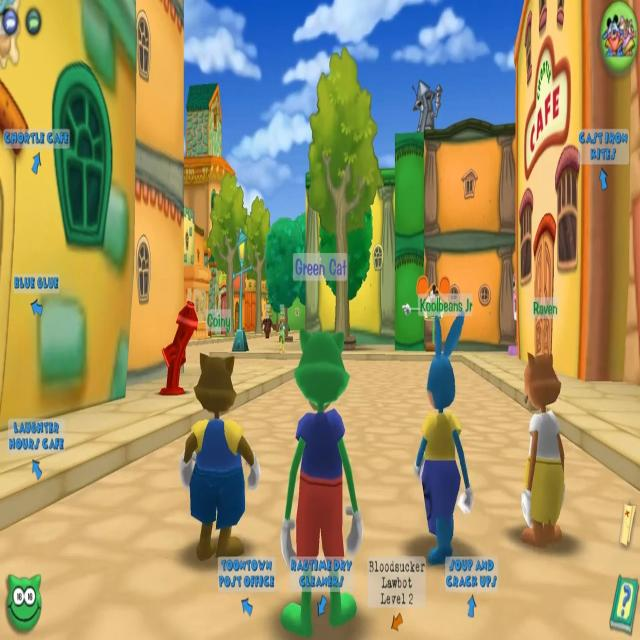flunky: (260, 306, 275, 339)
